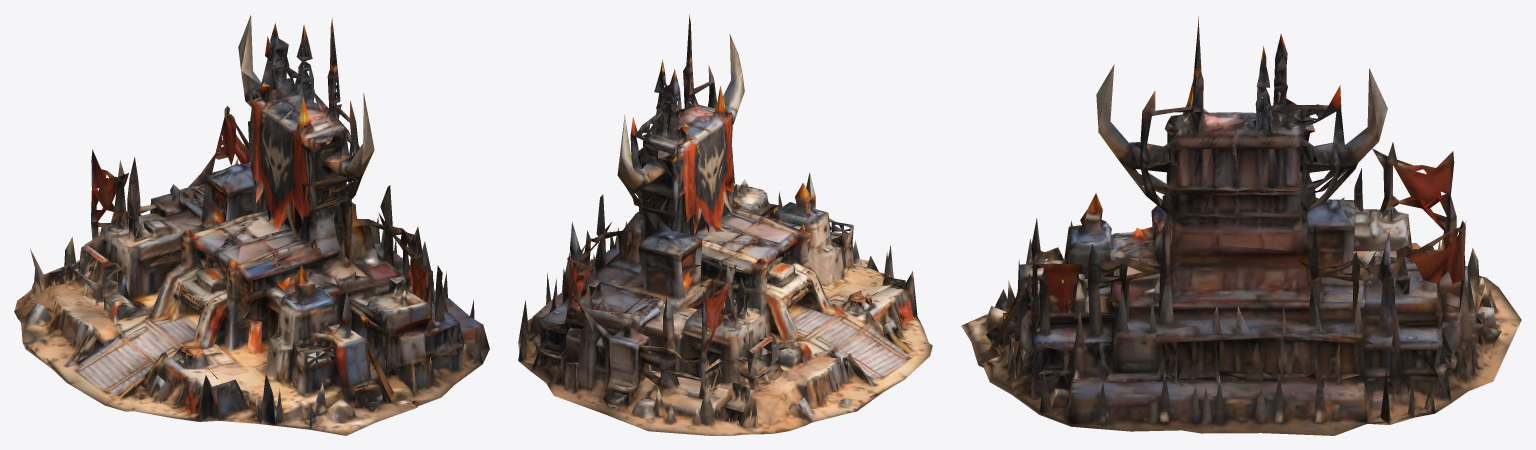
File: HL_Savagers_CommandCenter_v01_retopo.glb
3 views of the same model, side by side, from view 1: azimuth 30°, elevation 25°; view 2: azimuth 150°, elevation 25°; view 3: azimuth 270°, elevation 25° (orthographic). The views are drawn at different scales.
Visible parts, largest first — view 1: HL_Savagers_CommandCenter_v01_retopo; view 2: HL_Savagers_CommandCenter_v01_retopo; view 3: HL_Savagers_CommandCenter_v01_retopo.
Boxes of the visible parts, x1,y1,x2,y2 form: HL_Savagers_CommandCenter_v01_retopo: (14, 15, 489, 435); HL_Savagers_CommandCenter_v01_retopo: (518, 14, 932, 435); HL_Savagers_CommandCenter_v01_retopo: (961, 16, 1521, 435).
Bounding box in the file's own units: 0.8377 × 0.7007 × 0.9836.
1 material, 1 textured.
